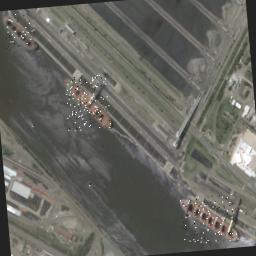boat: (178, 193, 238, 245), (63, 74, 111, 131), (3, 12, 36, 51), (86, 181, 92, 188), (30, 124, 34, 126)
